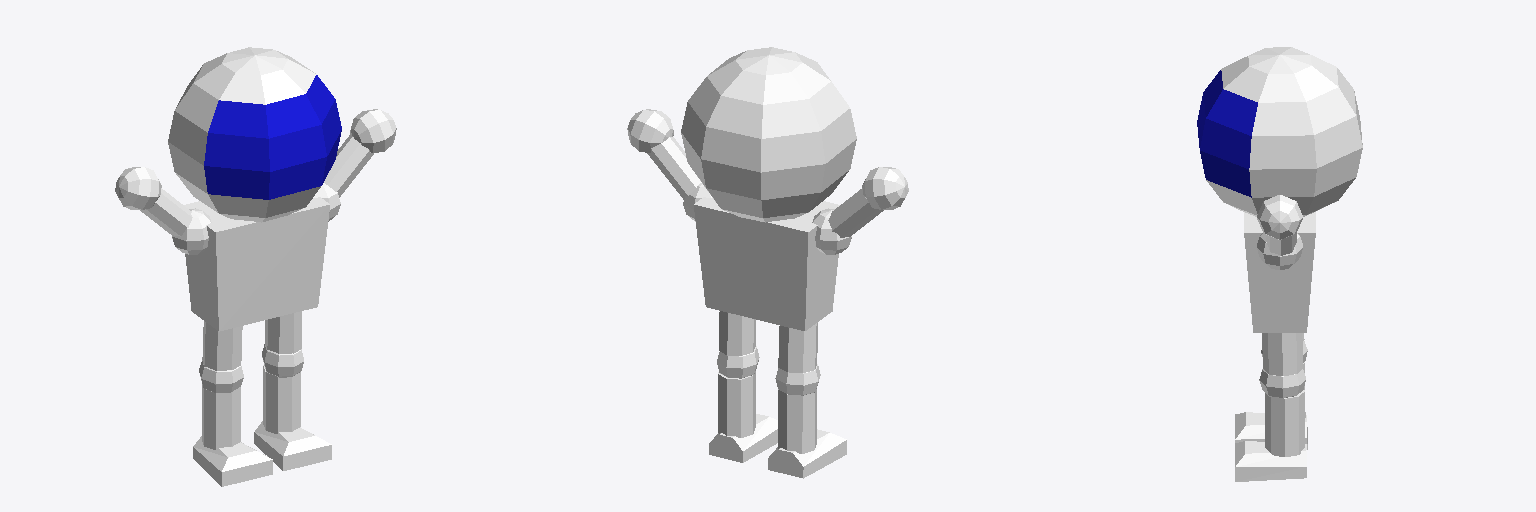
File: astronaut2.obj
3 views of the same model, side by side, from view 1: azimuth 30°, elevation 25°; view 2: azimuth 150°, elevation 25°; view 3: azimuth 270°, elevation 25° (orthographic).
Parts seen in each view (by area): view 1: sphere1, cube8, cube8_copy9, cylinder4_copy20, cylinder4_copy21, cylinder4_copy6, sphere10_copy12; view 2: sphere1, cube8, cube8_copy9, cylinder4_copy20, cylinder4_copy21, cylinder4_copy6, sphere10_copy12; view 3: sphere1, cube8_copy9, sphere10_copy12, cylinder4_copy20, cube8.
Part boxes in pixels (x1,y1,x2,y2): sphere1: (168, 47, 341, 331); cube8: (193, 384, 272, 486); cube8_copy9: (254, 365, 331, 470); cylinder4_copy20: (324, 109, 396, 197); cylinder4_copy21: (115, 167, 192, 236); cylinder4_copy6: (199, 321, 243, 392); sphere10_copy12: (262, 311, 303, 377); sphere1: (681, 47, 856, 330); cube8: (768, 389, 846, 478); cube8_copy9: (709, 371, 777, 462); cylinder4_copy20: (627, 109, 701, 199); cylinder4_copy21: (828, 167, 908, 237); cylinder4_copy6: (775, 323, 820, 395); sphere10_copy12: (717, 311, 759, 378); sphere1: (1197, 47, 1362, 332); cube8_copy9: (1235, 390, 1306, 481); sphere10_copy12: (1259, 333, 1305, 397); cylinder4_copy20: (1257, 195, 1302, 255); cube8: (1235, 362, 1307, 449).
Size of the model in its own units: 3.59 by 5.02 by 1.88.